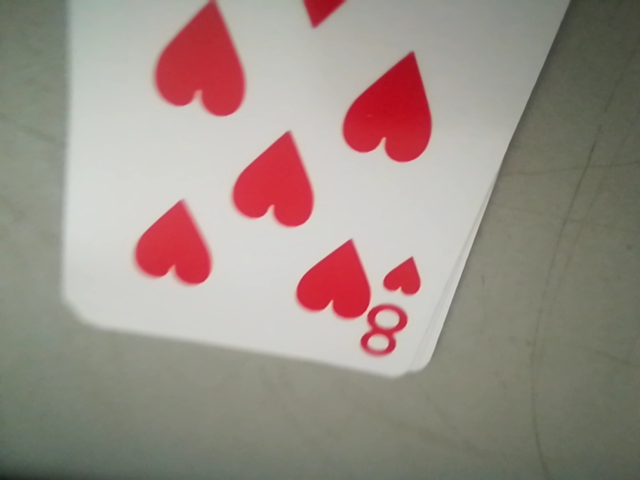hx 8: (359, 248, 423, 356)
